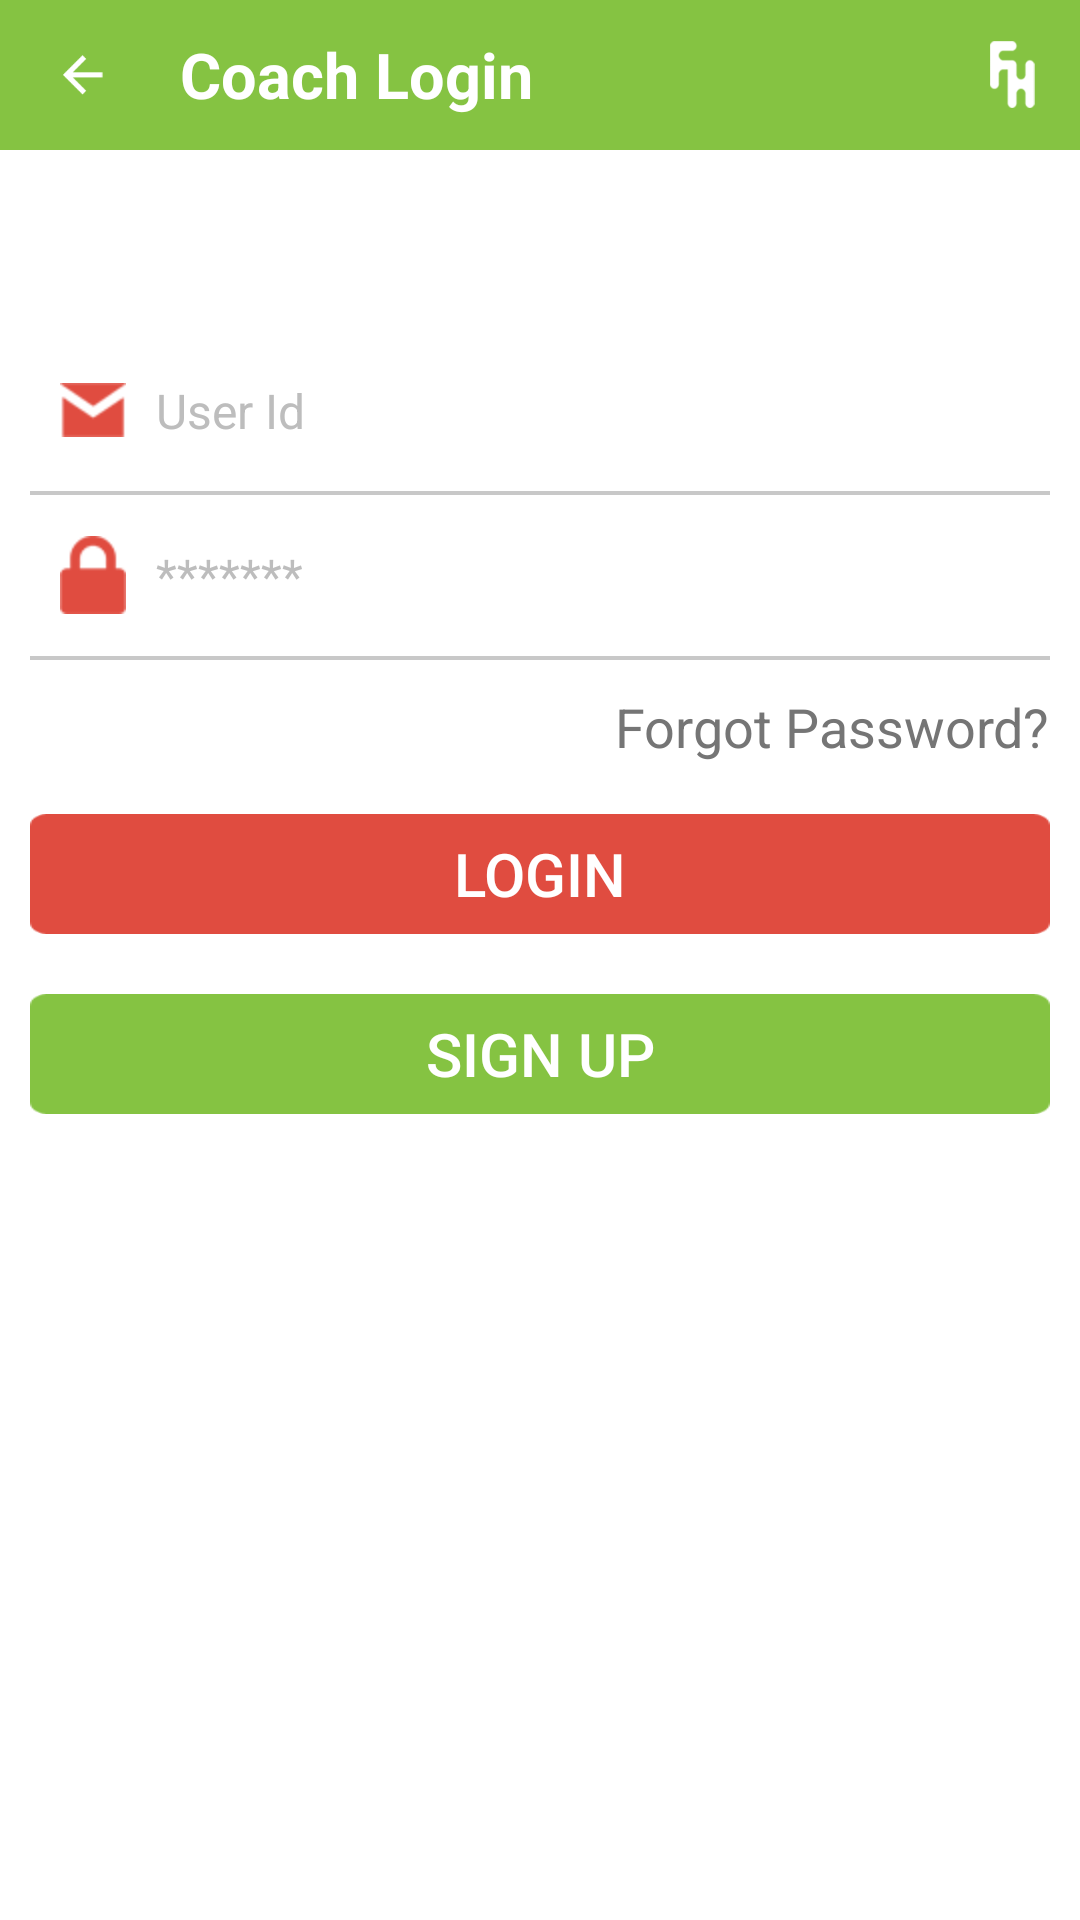

Icon bounding boxes for this 1080px x 1920px phone screenshot, format (x1, y1, x2, y2):
back: (63, 55, 103, 95)
